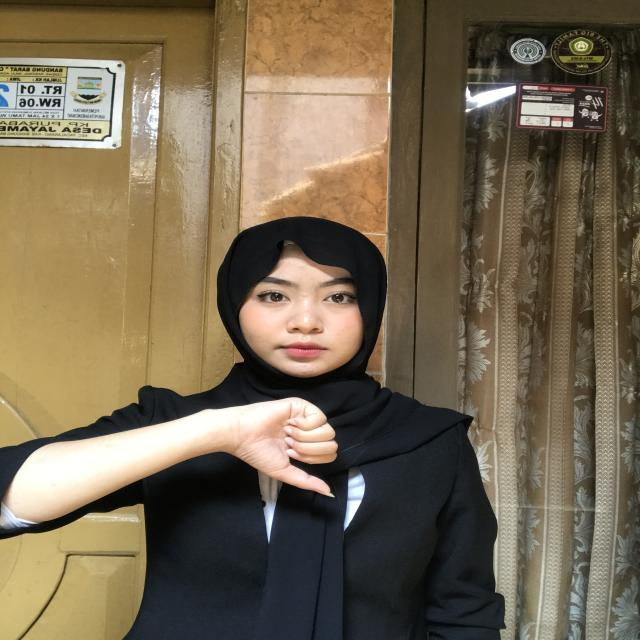sedih: (174, 360, 364, 526)
